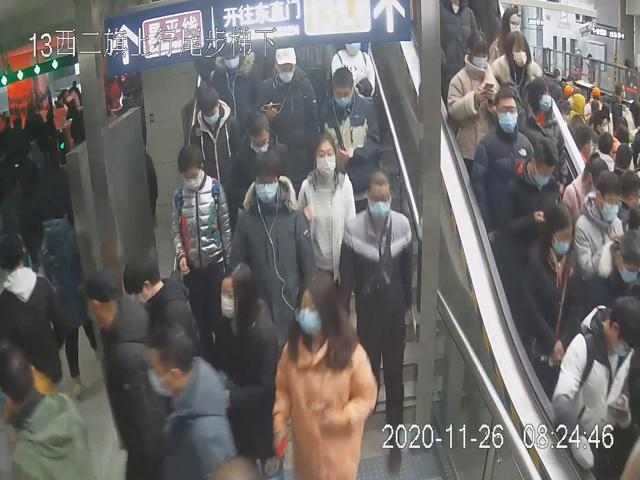person: (335, 166, 418, 476), (272, 267, 379, 480), (227, 153, 316, 348), (170, 141, 238, 365), (295, 127, 359, 288), (472, 80, 537, 238), (445, 24, 502, 178), (316, 63, 379, 181), (227, 109, 296, 216), (257, 40, 321, 140), (185, 82, 239, 187)
